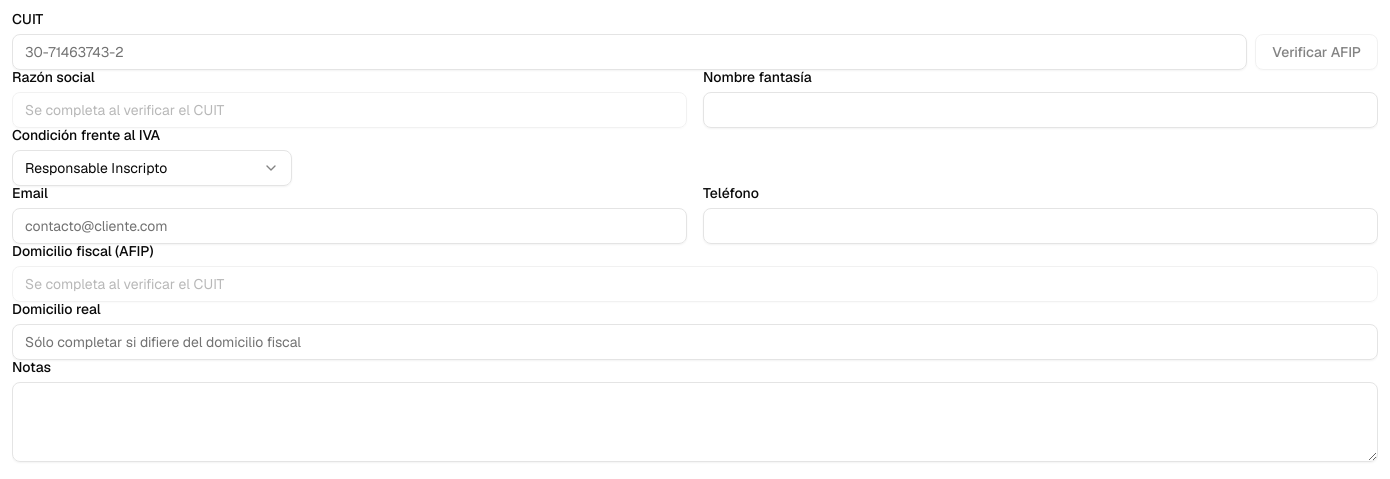
Test case: CounterpartyIdentityFields › fills razón social, IVA and domicilio fiscal from AFIP
The image size is (1390, 479).
Step 1. Type "30714637432" into the field labelled "CUIT" → (630, 52), box [12,34,1247,70]
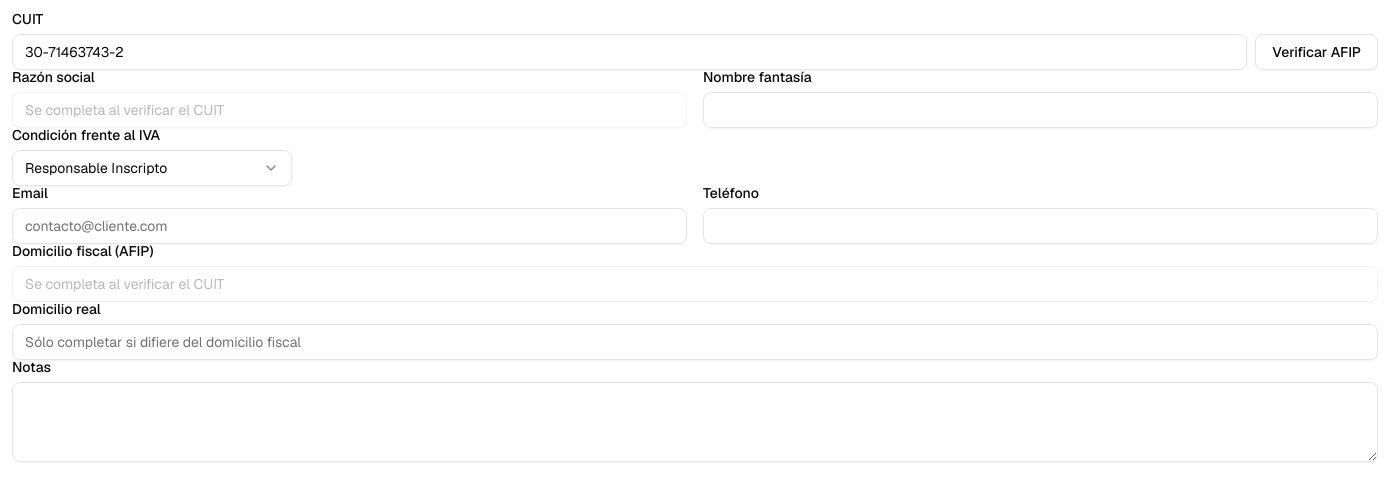
Step 2. Click the button "Verificar AFIP" → (1317, 52), box [1255,34,1378,70]
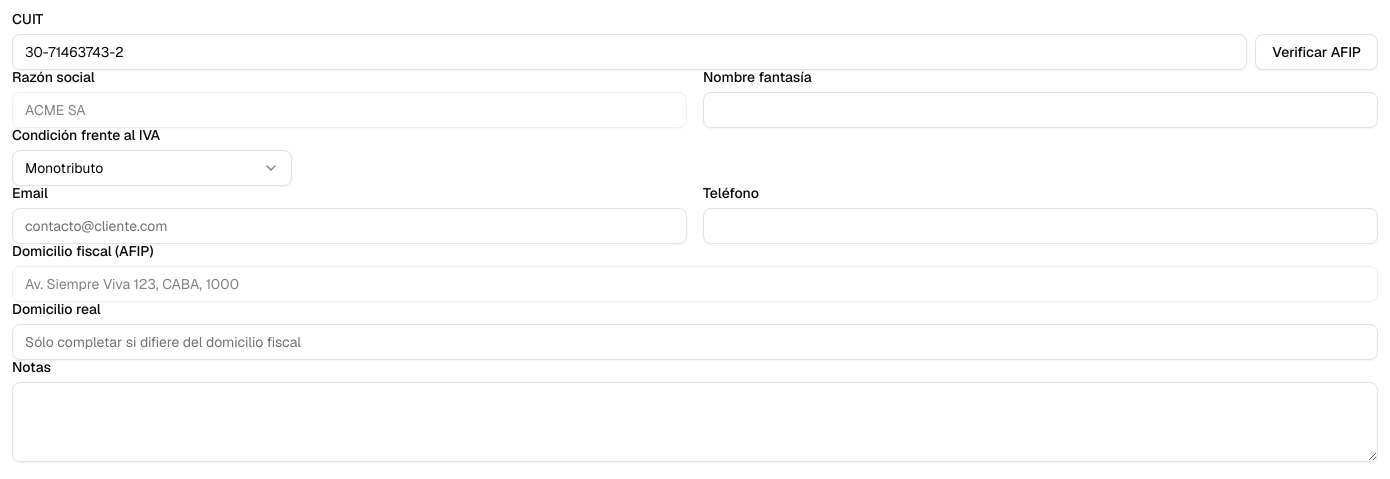
Expected: the field showing "ACME SA" is shown, [12,92,687,128]
Expected: the field showing "Av. Siempre Viva 123, CABA, 1000" is shown, [12,266,1378,302]
Expected: the text "Monotributo" is shown, [25,158,103,178]
